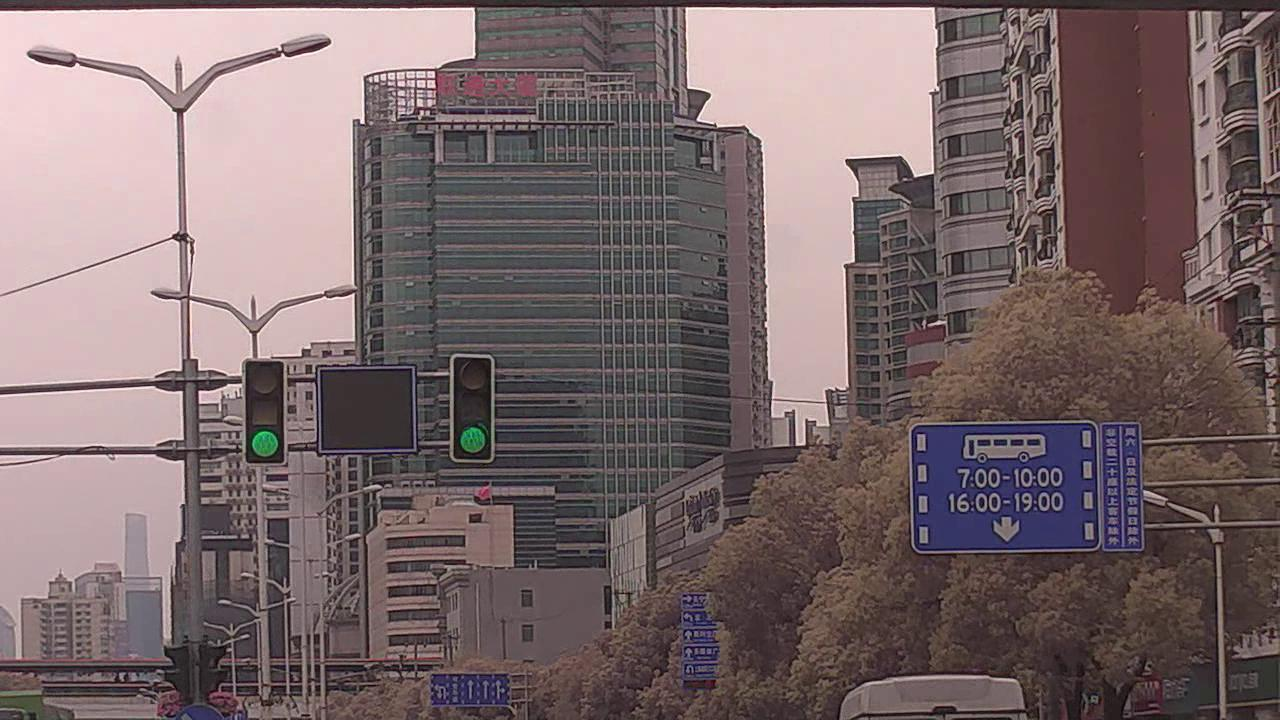traffic_light: (246, 359, 290, 464), (455, 355, 495, 459)
